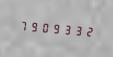nine: (28, 17, 38, 35), (50, 19, 60, 37)
seven: (17, 16, 27, 34)
three: (61, 20, 71, 38), (72, 21, 82, 39)
two: (83, 22, 93, 40)
zero: (39, 18, 49, 36)
